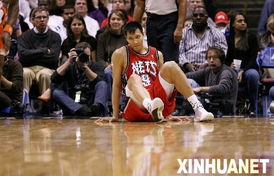10+: (1, 1, 274, 128)
down: (93, 17, 218, 126)
